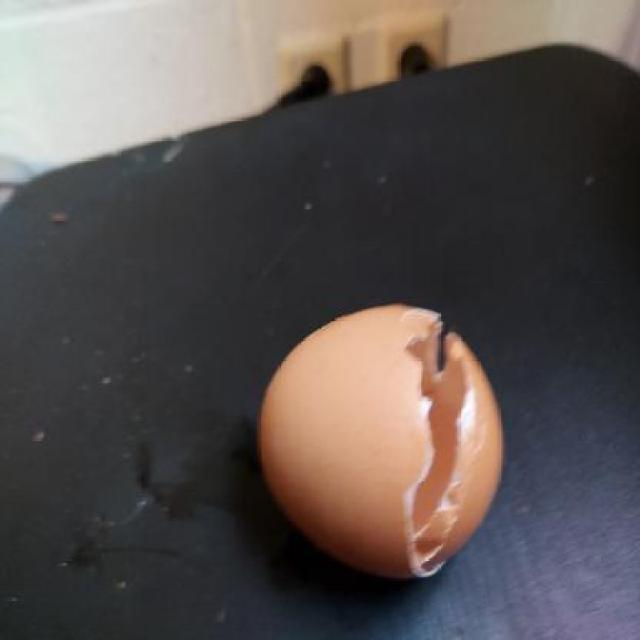biodegradable: (258, 300, 507, 585)
